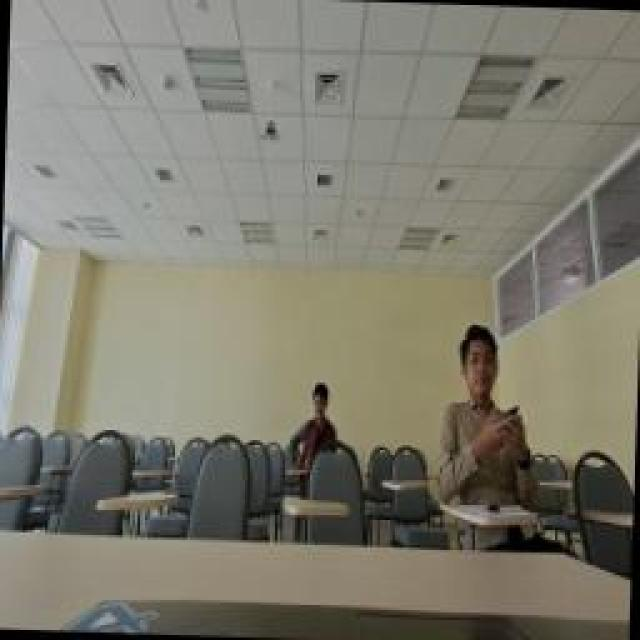phone: (440, 328, 538, 502)
